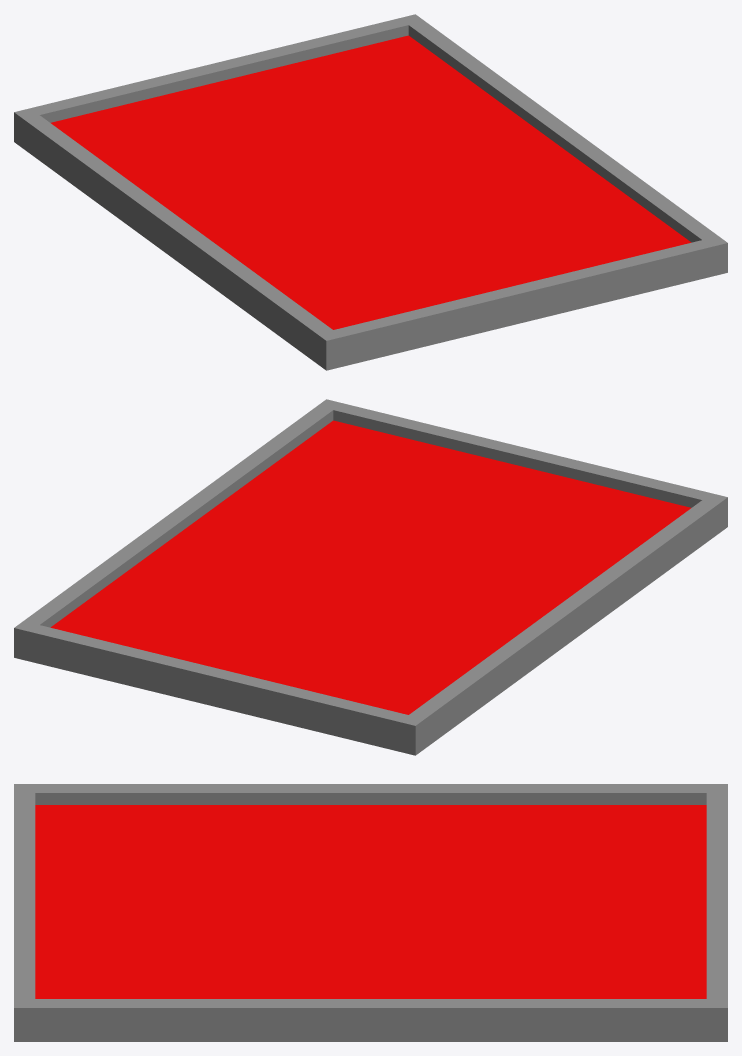
File: m_prop_Billboard_B.FBX
3 renders of one model, top to bottom at view 1: azimuth 30°, elevation 25°; view 2: azimuth 150°, elevation 25°; view 3: azimuth 270°, elevation 25°, orthographic. The views are drawn at different scales.
Parts seen in each view (by area): view 1: M_Block_Billboard_B; view 2: M_Block_Billboard_B; view 3: M_Block_Billboard_B.
Boxes of the visible parts, x1=… form: M_Block_Billboard_B: x1=14, y1=14, x2=727, y2=370; M_Block_Billboard_B: x1=14, y1=399, x2=727, y2=755; M_Block_Billboard_B: x1=14, y1=784, x2=727, y2=1041.
Size of the model in its own units: 1047 by 1411 by 74.3.
